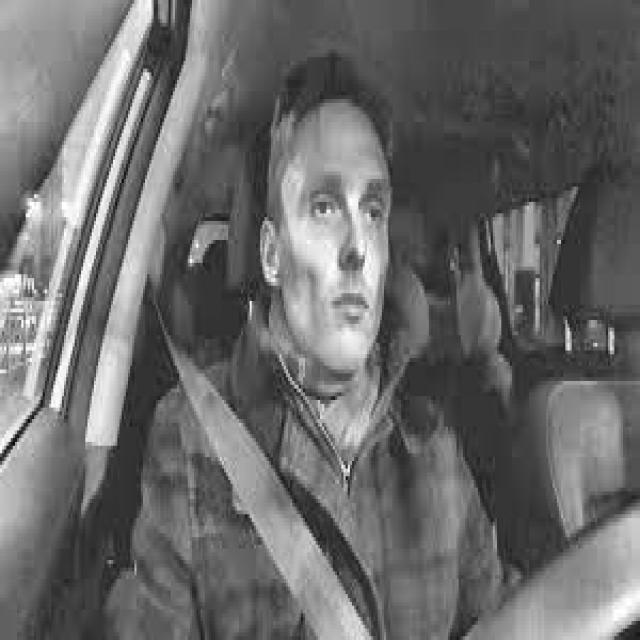seatbelt: (136, 274, 365, 640)
